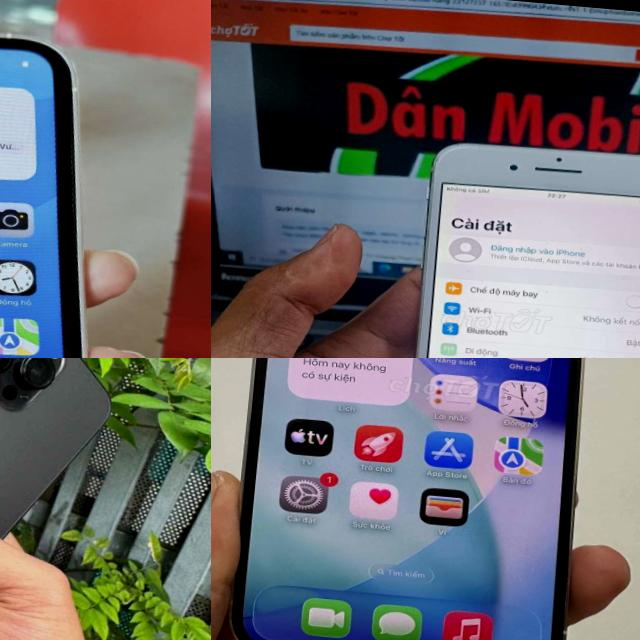gen_12_13: (220, 358, 617, 640)
gen_7_8: (397, 127, 640, 358)
gen_x_xs: (0, 35, 87, 358)
